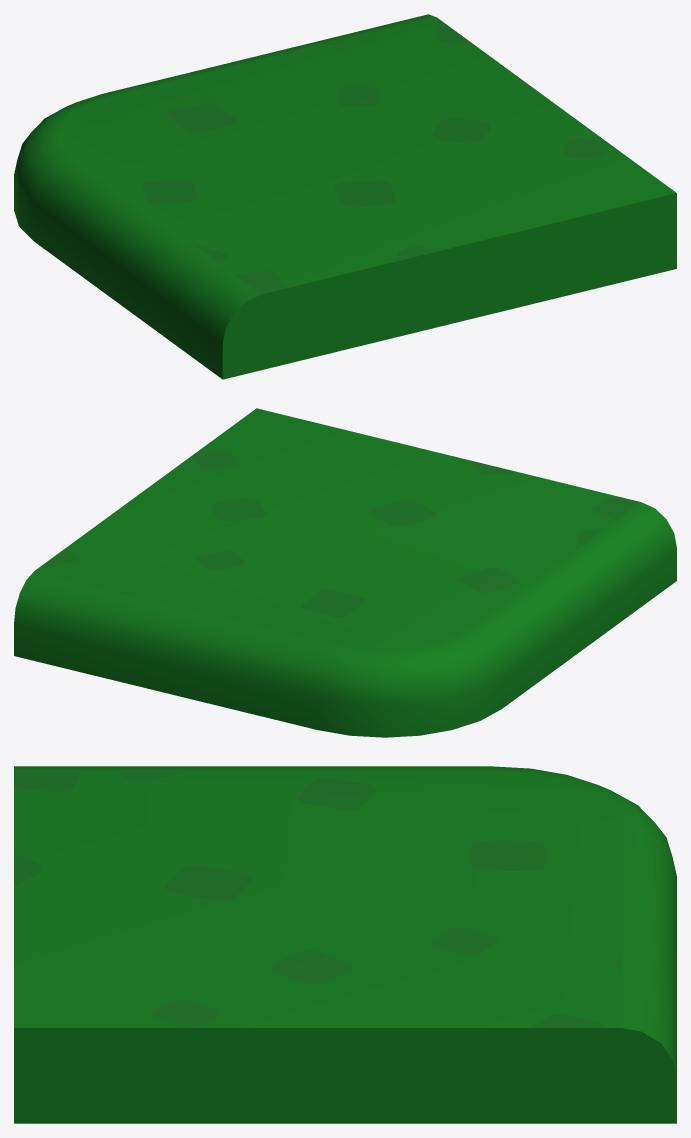
The model's file is GF_Corner_2_3.obj.
3 views of the same model, one above another, from view 1: azimuth 30°, elevation 25°; view 2: azimuth 150°, elevation 25°; view 3: azimuth 270°, elevation 25° (orthographic). The views are drawn at different scales.
Parts seen in each view (by area): view 1: GF_Corner_2_3; view 2: GF_Corner_2_3; view 3: GF_Corner_2_3.
Boxes of the visible parts, left/top/right/bottom form: GF_Corner_2_3: left=14, top=14, right=676, bottom=379; GF_Corner_2_3: left=14, top=408, right=676, bottom=737; GF_Corner_2_3: left=14, top=766, right=676, bottom=1123.
Size of the model in its own units: 2 by 0.3187 by 2.
